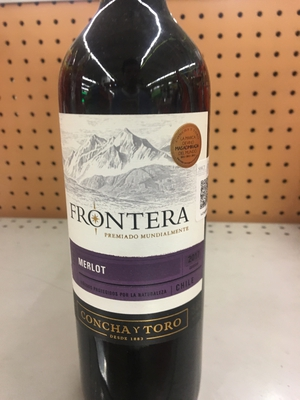frontera merlot: (51, 40, 230, 368)
